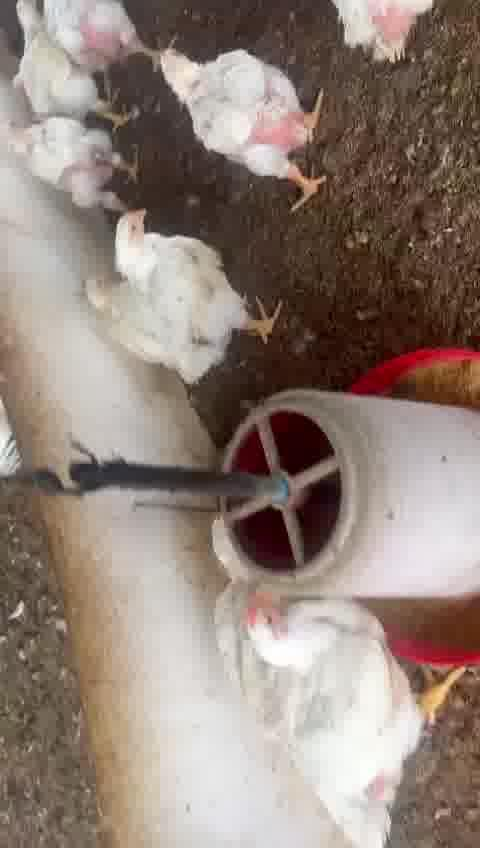Normal: (250, 614, 458, 831), (84, 214, 277, 373), (157, 47, 333, 198), (9, 9, 140, 128)
